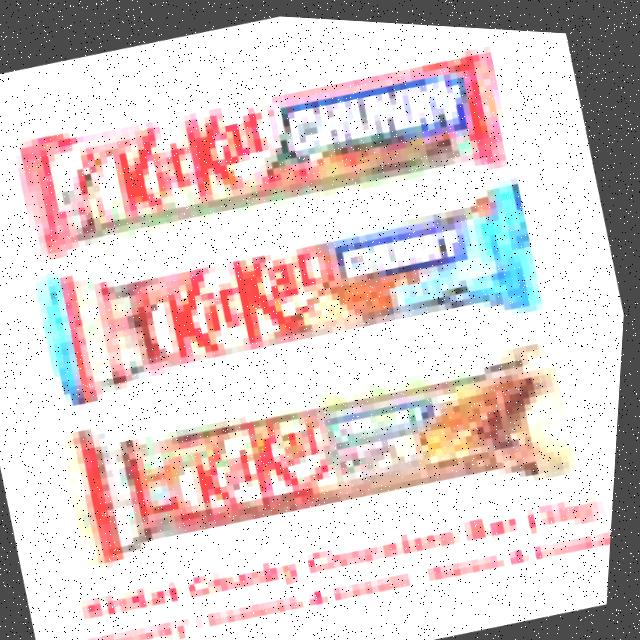kitkat: (57, 303, 592, 592), (35, 155, 557, 424), (8, 12, 516, 275)
